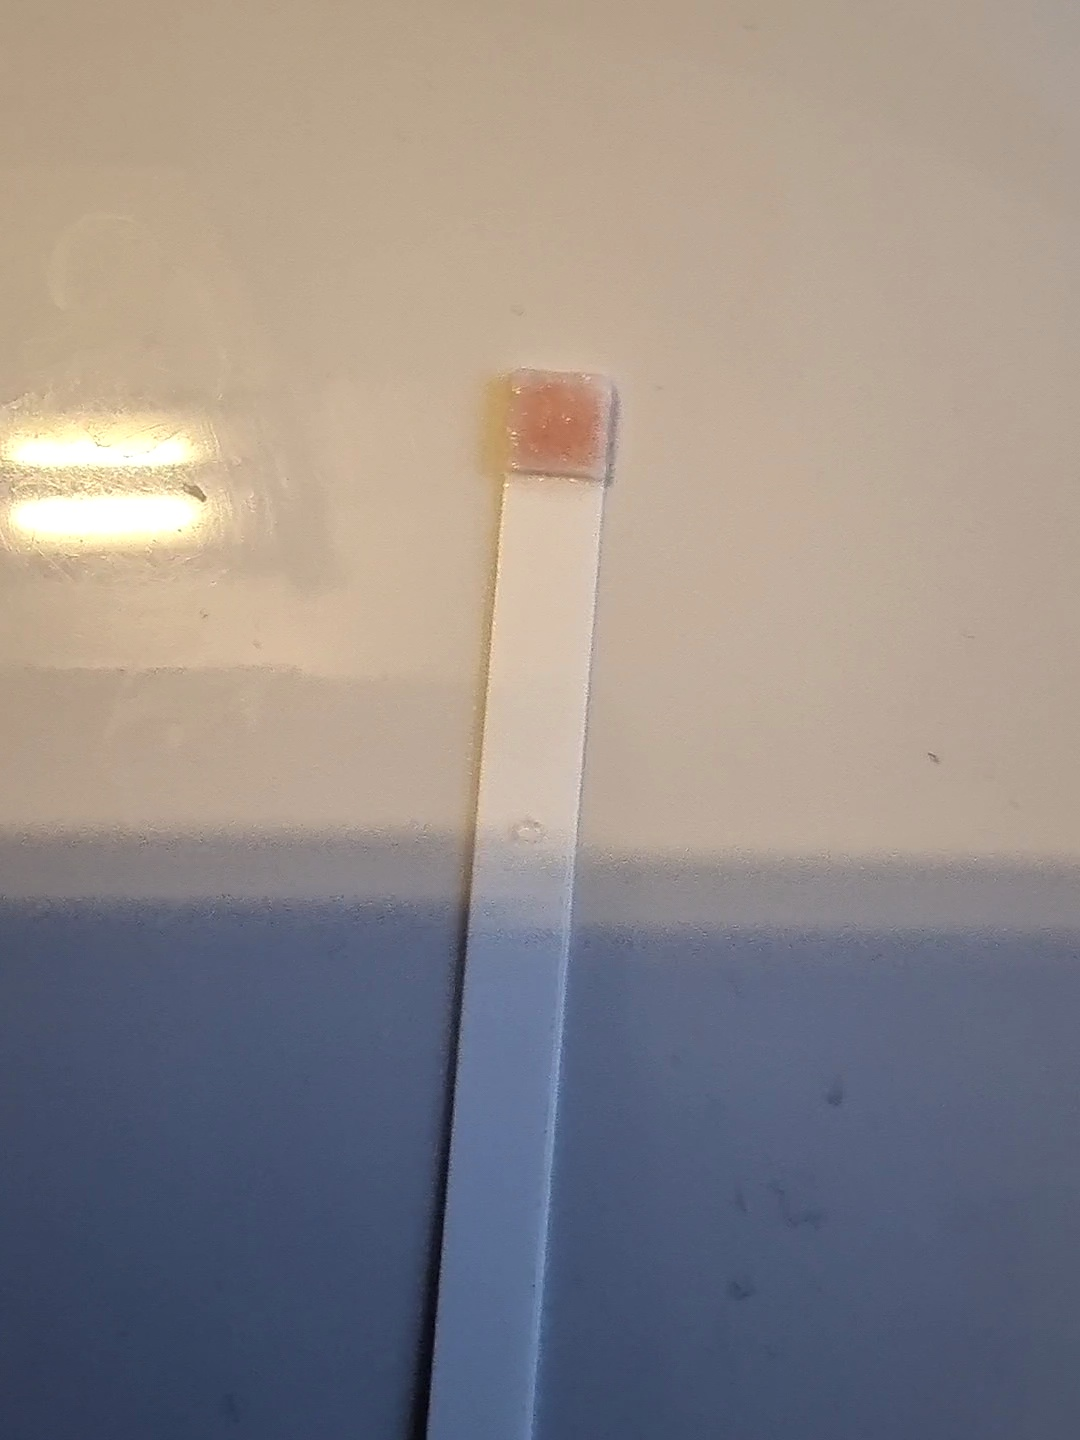keto-tip: (495, 363, 626, 488)
